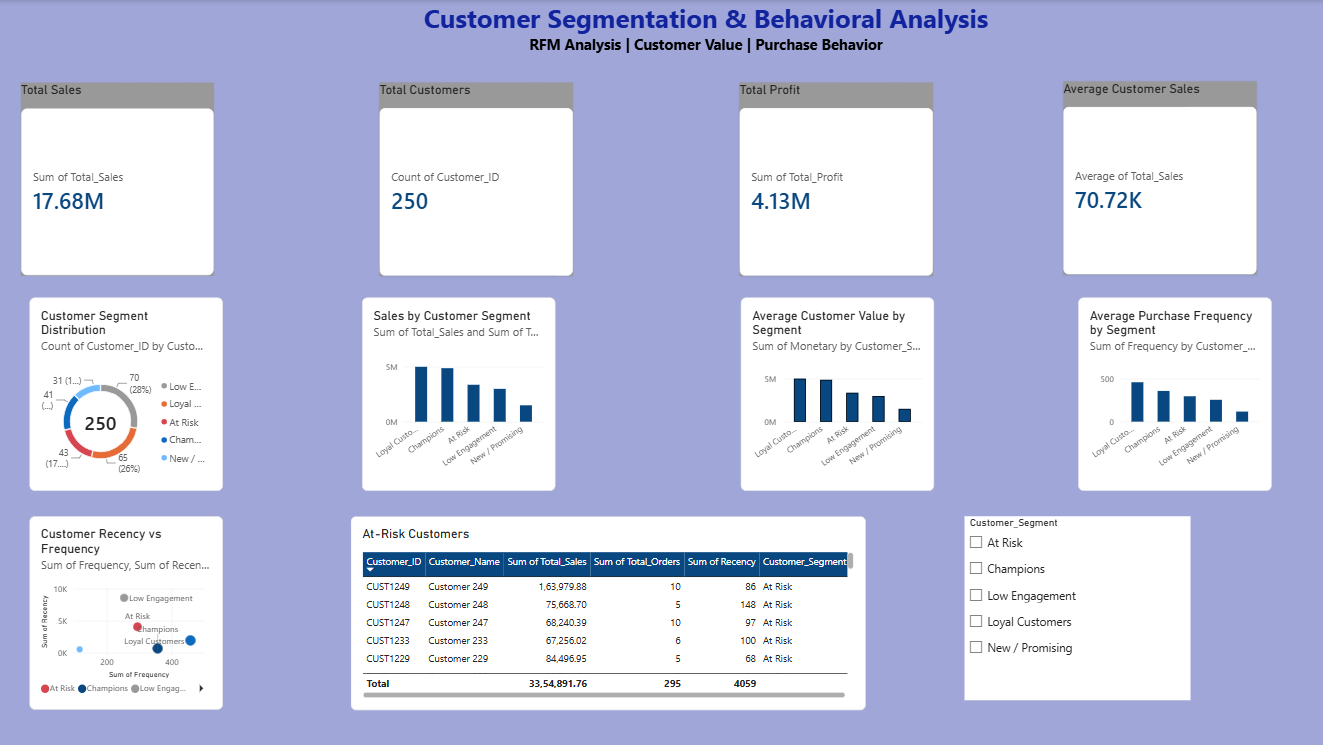

This screenshot's page, from the dashboard's own definition file:
{"tool":"powerbi","page":{"name":"Page 1","canvas":[1920,1080],"ordinal":0},"visuals":[{"type":"cardVisual","title":"Total Sales","fields":{"Data":["Sum(Project2_Customer_RFM_Analysis.Total_Sales)"]},"box":[34.4,119.4,280,280],"z":0},{"type":"cardVisual","title":"Total Customers","fields":{"Data":["Count(Project2_Customer_RFM_Analysis.Customer_ID)"]},"box":[553.8,119.4,280,280],"z":1000},{"type":"cardVisual","title":"Total Profit","fields":{"Data":["Sum(Project2_Customer_RFM_Analysis.Total_Profit)"]},"box":[1074.9,119.4,280,280],"z":2000},{"type":"cardVisual","title":"Average Customer Sales","fields":{"Data":["Avg(Project2_Customer_RFM_Analysis.Total_Sales)"]},"box":[1543.6,117.6,280,280],"z":3000},{"type":"donutChart","title":" Customer Segment Distribution","fields":{"Category":["Project2_Customer_RFM_Analysis.Customer_Segment"],"Y":["CountNonNull(Project2_Customer_RFM_Analysis.Customer_ID)"]},"box":[47.1,430.7,280,280],"z":4000},{"type":"clusteredColumnChart","title":"Sales by Customer Segment","fields":{"Category":["Project2_Customer_RFM_Analysis.Customer_Segment"],"Y":["Sum(Project2_Customer_RFM_Analysis.Total_Sales)"]},"box":[528.4,430.7,280,280],"z":5000},{"type":"clusteredColumnChart","title":"Average Customer Value by Segment","fields":{"Category":["Project2_Customer_RFM_Analysis.Customer_Segment"],"Y":["Sum(Project2_Customer_RFM_Analysis.Monetary)"]},"box":[1076.7,430.7,280,280],"z":6000},{"type":"tableEx","title":"At-Risk Customers","fields":{"Values":["Project2_Customer_RFM_Analysis.Customer_ID","Project2_Customer_RFM_Analysis.Customer_Name","Sum(Project2_Customer_RFM_Analysis.Total_Sales)","Sum(Project2_Customer_RFM_Analysis.Total_Orders)","Sum(Project2_Customer_RFM_Analysis.Recency)","Project2_Customer_RFM_Analysis.Customer_Segment"]},"box":[512.1,747.4,745.6,280.5],"z":7000},{"type":"scatterChart","title":"Customer Recency vs Frequency","fields":{"Series":["Project2_Customer_RFM_Analysis.Customer_Segment"],"Size":["Sum(Project2_Customer_RFM_Analysis.Total_Sales)"],"X":["Sum(Project2_Customer_RFM_Analysis.Frequency)"],"Y":["Sum(Project2_Customer_RFM_Analysis.Recency)"]},"box":[47.1,747.4,280,280],"z":8000},{"type":"clusteredColumnChart","title":"Average Purchase Frequency by Segment","fields":{"Category":["Project2_Customer_RFM_Analysis.Customer_Segment"],"Y":["Sum(Project2_Customer_RFM_Analysis.Frequency)"]},"box":[1565.4,430.7,279.9,279.9],"z":9000},{"type":"textbox","box":[327.3,0,1397.6,179.1],"z":11000},{"type":"slicer","fields":{"Values":["Project2_Customer_RFM_Analysis.Customer_Segment"]},"box":[1400.7,747.4,327.5,266],"z":12000}]}

Visuals, with their boxes in screenshot pixels (x1, y1, x2, y2), scaled from the page's 1920x1080 canvas onto the 1323x745 screenshot:
"Total Sales" cardVisual: region(24, 82, 217, 276)
"Total Customers" cardVisual: region(382, 82, 575, 276)
"Total Profit" cardVisual: region(741, 82, 934, 276)
"Average Customer Sales" cardVisual: region(1064, 81, 1257, 274)
" Customer Segment Distribution" donutChart: region(32, 297, 225, 490)
"Sales by Customer Segment" clusteredColumnChart: region(364, 297, 557, 490)
"Average Customer Value by Segment" clusteredColumnChart: region(742, 297, 935, 490)
"At-Risk Customers" tableEx: region(353, 516, 867, 709)
"Customer Recency vs Frequency" scatterChart: region(32, 516, 225, 709)
"Average Purchase Frequency by Segment" clusteredColumnChart: region(1079, 297, 1272, 490)
textbox: region(226, 0, 1189, 124)
slicer - Project2_Customer_RFM_Analysis.Customer_Segment: region(965, 516, 1191, 699)
